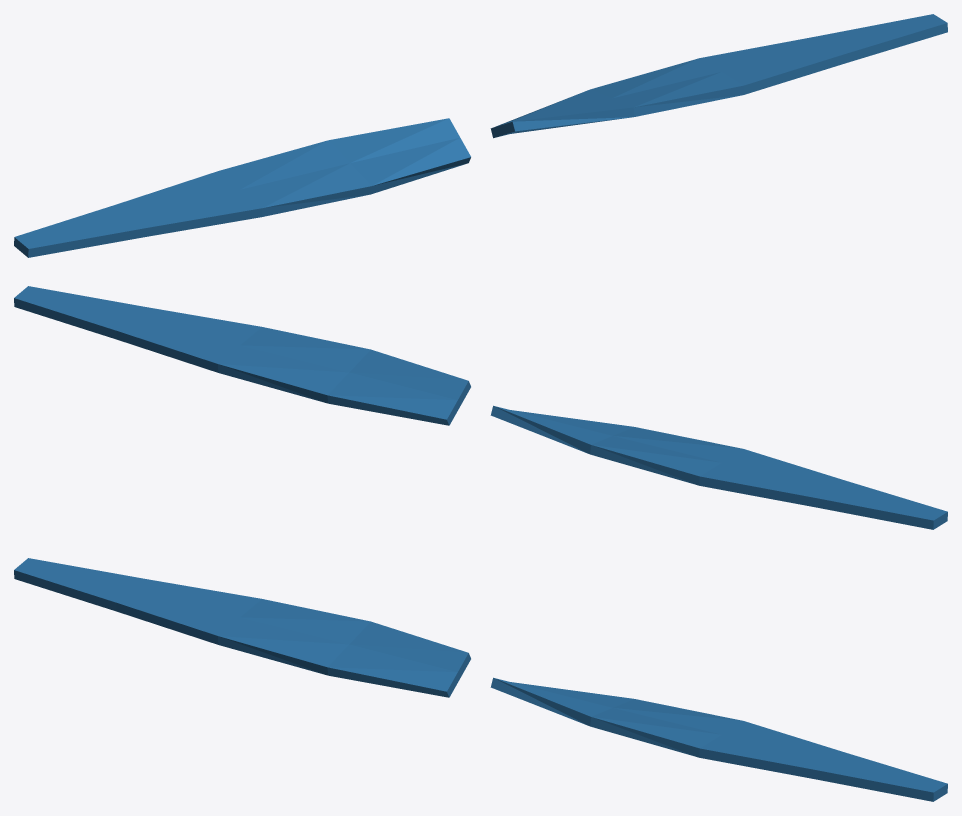
Rendered from Propeller.obj.
3 renders of one model, top to bottom at view 1: azimuth 30°, elevation 25°; view 2: azimuth 150°, elevation 25°; view 3: azimuth 330°, elevation 25°, orthographic.
Parts seen in each view (by area): view 1: Cube; view 2: Cube; view 3: Cube.
Part boxes in pixels (x1,y1,x2,y2): Cube: [14, 14, 947, 257]; Cube: [14, 286, 947, 529]; Cube: [14, 558, 947, 801].
Bounding box in the file's own units: 378 × 12.12 × 31.66.
